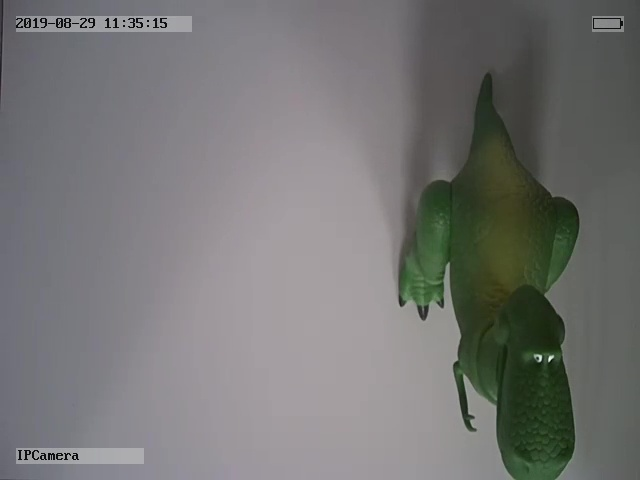rex: (398, 69, 584, 480)
